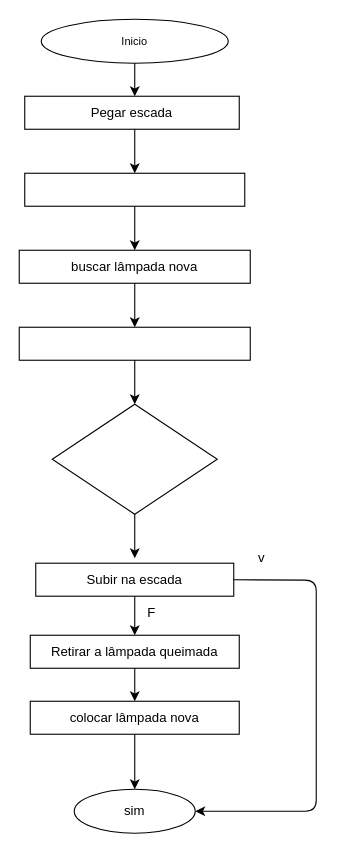
The diagram is 344 pixels wide and 853 high, and some of its shapes have lost their labels. Here are the shapes that lost their labels. From the top down, the centre of each, then its label:
At point 134,189: "posicionar escada".
At point 134,343: "acionar o interruptor".
At point 134,458: "Acendeu?".
